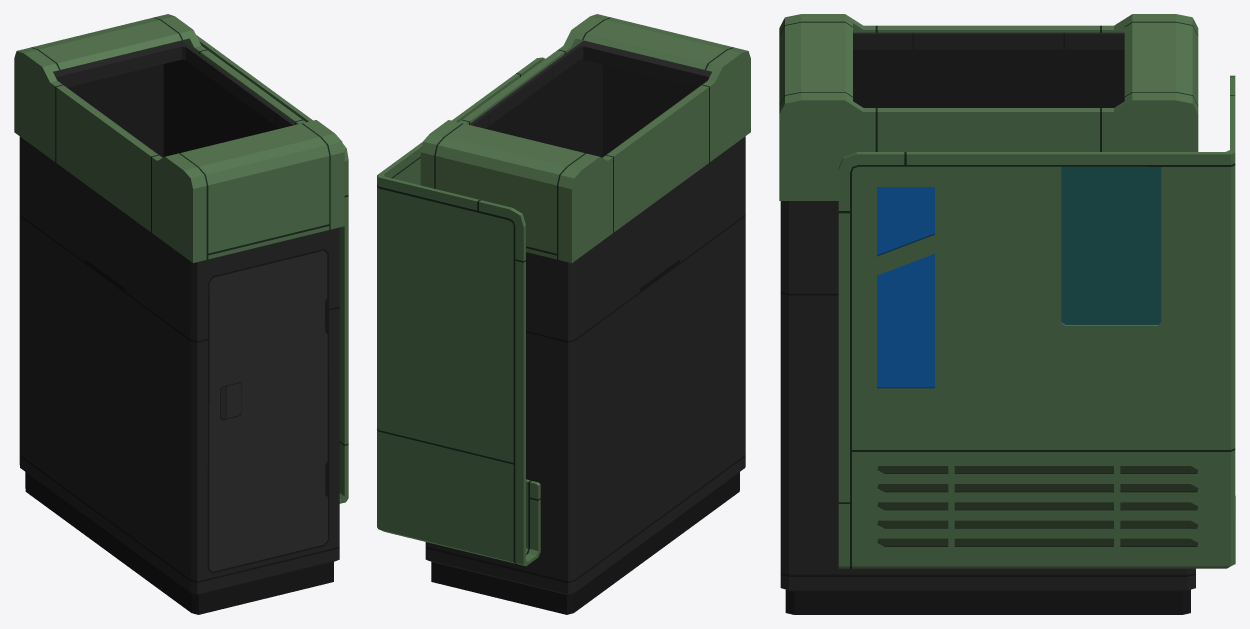
Rendered from W_O_Trash_001_L0.fbx.
3 renders of one model, left to right at view 1: azimuth 30°, elevation 25°; view 2: azimuth 150°, elevation 25°; view 3: azimuth 270°, elevation 25°, orthographic. The views are drawn at different scales.
Parts seen in each view (by area): view 1: W_O_Trash_001_L0; view 2: W_O_Trash_001_L0; view 3: W_O_Trash_001_L0.
Part boxes in pixels (box(x1,y1,x2,y2)): W_O_Trash_001_L0: box(14, 14, 348, 614); W_O_Trash_001_L0: box(377, 14, 750, 614); W_O_Trash_001_L0: box(779, 14, 1235, 614).
Size of the model in its own units: 0.3791 by 0.7072 by 0.8846.
